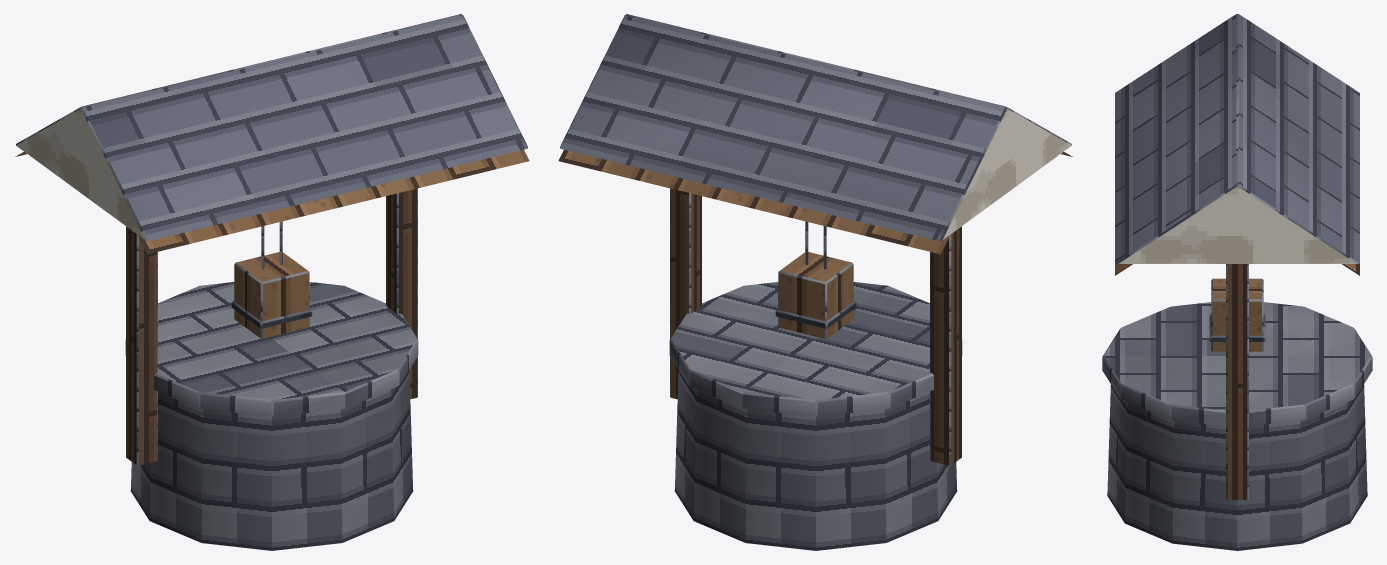
The model's file is well_2.glb.
3 renders of one model, left to right at view 1: azimuth 30°, elevation 25°; view 2: azimuth 150°, elevation 25°; view 3: azimuth 270°, elevation 25°, orthographic. The views are drawn at different scales.
Visible parts, largest first — view 1: well_3; view 2: well_3; view 3: well_3.
Part boxes in pixels (<box>): well_3: <box>15,14,529,550</box>; well_3: <box>558,14,1072,550</box>; well_3: <box>1102,14,1372,550</box>.
Bounding box in the file's own units: 2.5 × 2.68 × 1.66.
7 materials, 7 textured.
